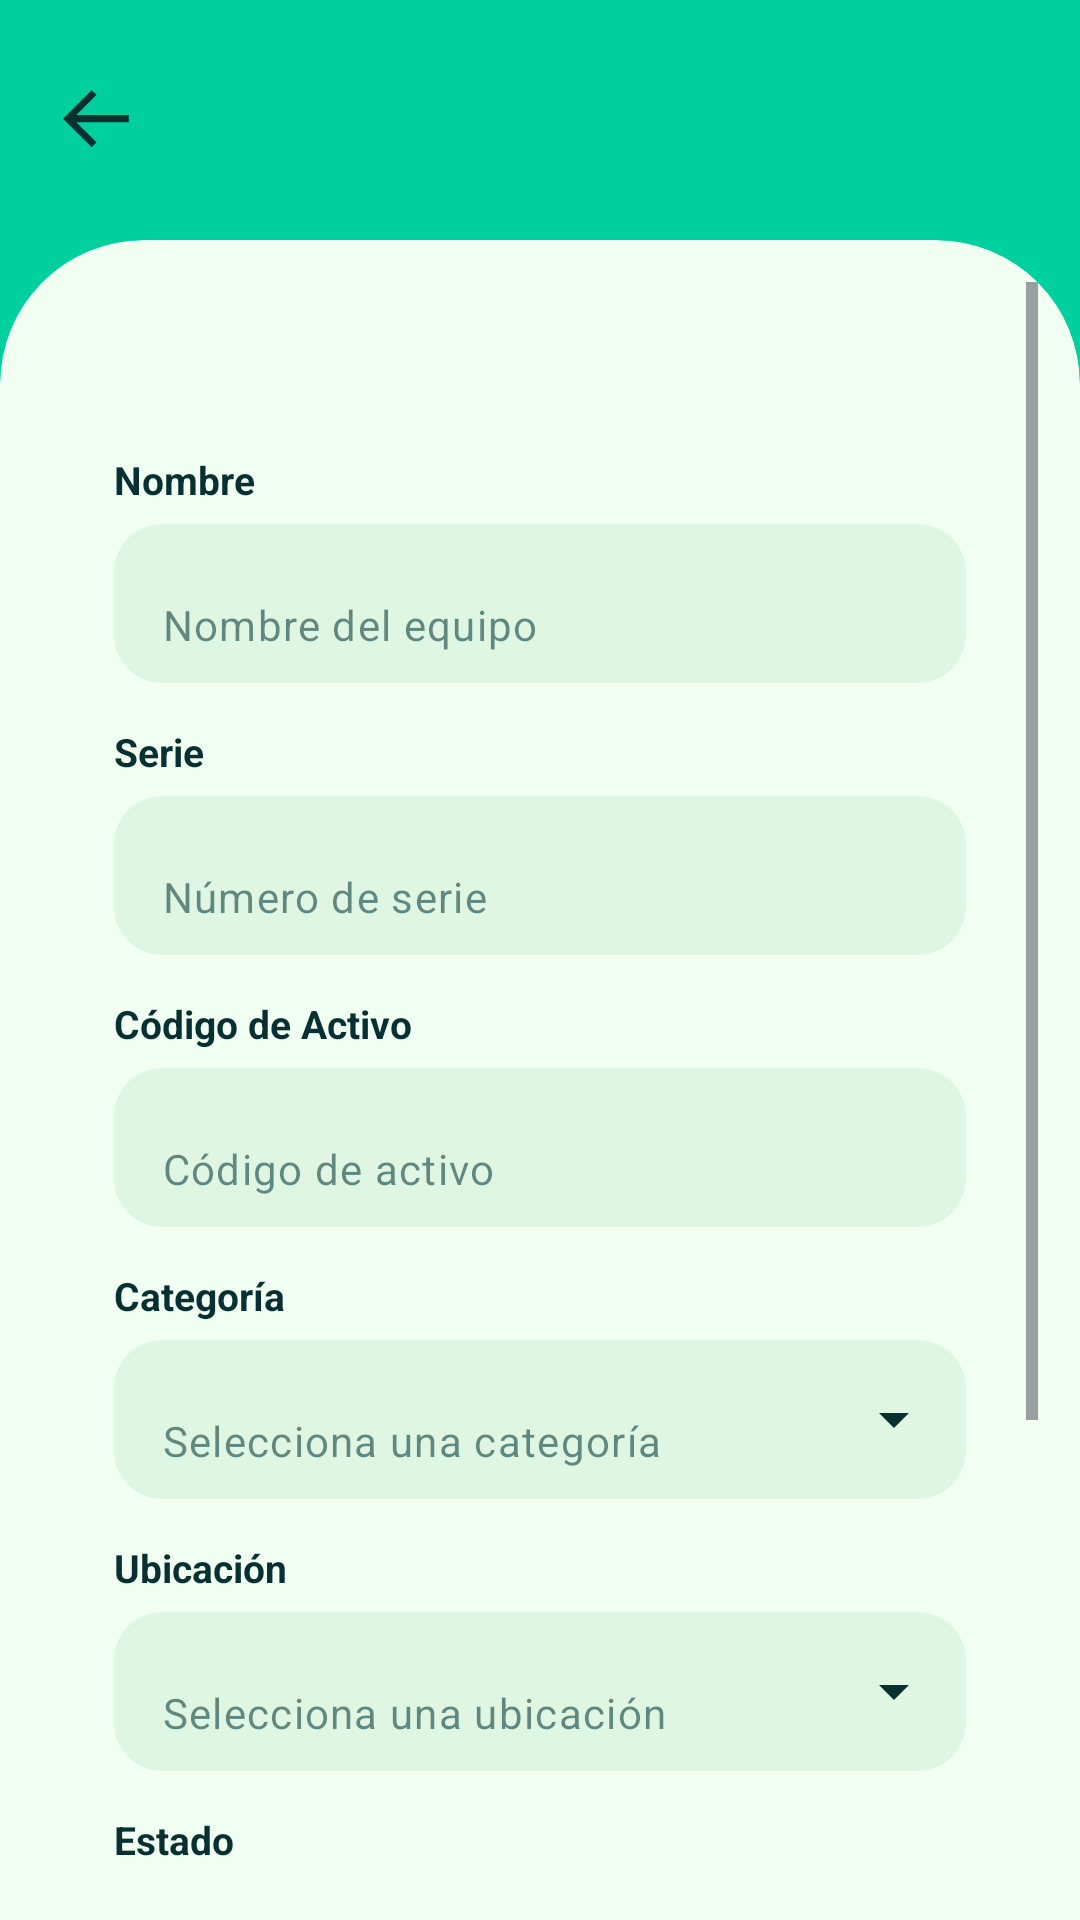

Screen size 1080w x 1920h. Icon name, then its box in pixels as (x1, y1, x2, y2):
arrow back: (63, 90, 129, 147)
